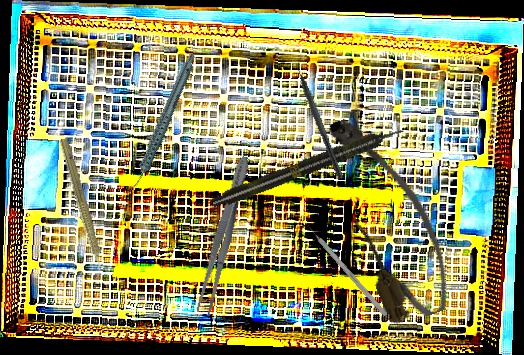Cannula: (315, 103, 463, 330)
Chopper: (288, 52, 353, 181)
Dressing Forceps: (193, 154, 255, 316)
Handpiece: (209, 122, 407, 212), (102, 52, 221, 194), (53, 136, 111, 281)
Hook Surgical: (302, 220, 388, 317)
